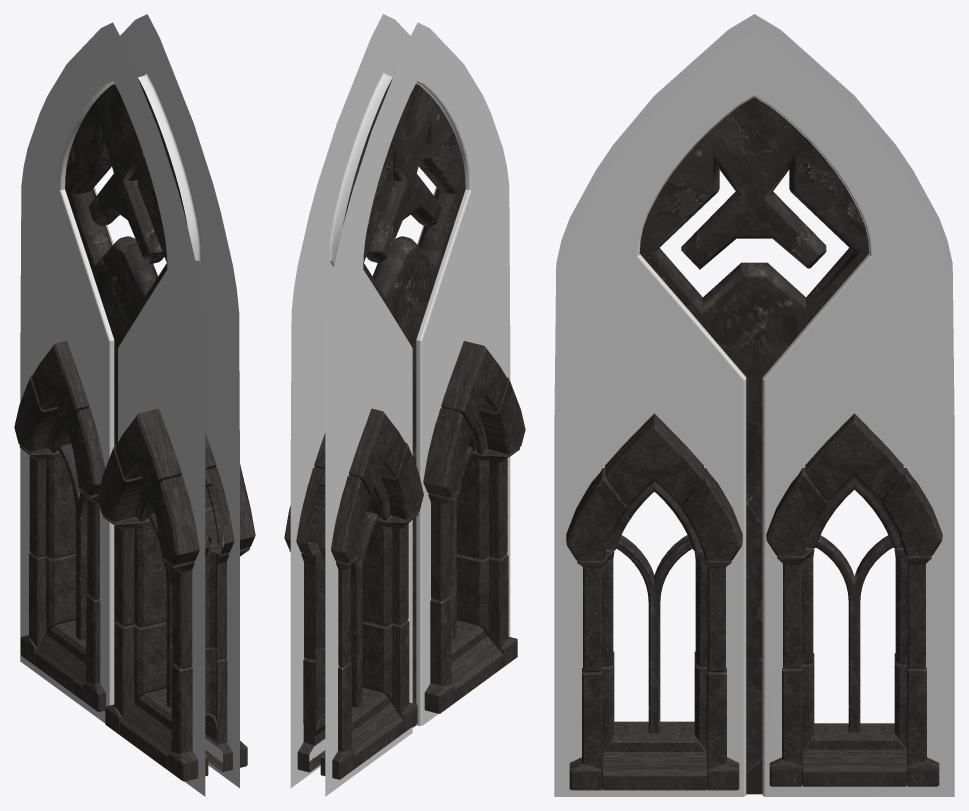
The picture shows the model from 3 angles, left to right: view 1: azimuth 30°, elevation 25°; view 2: azimuth 150°, elevation 25°; view 3: azimuth 270°, elevation 25°; orthographic projection. The views are drawn at different scales.
Parts seen in each view (by area): view 1: SM_Greathall_Window_Insert_05_LOD0; view 2: SM_Greathall_Window_Insert_05_LOD0; view 3: SM_Greathall_Window_Insert_05_LOD0.
Boxes of the visible parts, <box> form: SM_Greathall_Window_Insert_05_LOD0: <box>14,14,255,796</box>; SM_Greathall_Window_Insert_05_LOD0: <box>284,14,525,796</box>; SM_Greathall_Window_Insert_05_LOD0: <box>554,14,954,796</box>.
Size of the model in its own units: 0.9103 by 7.66 by 3.63.
2 materials, 1 textured.
